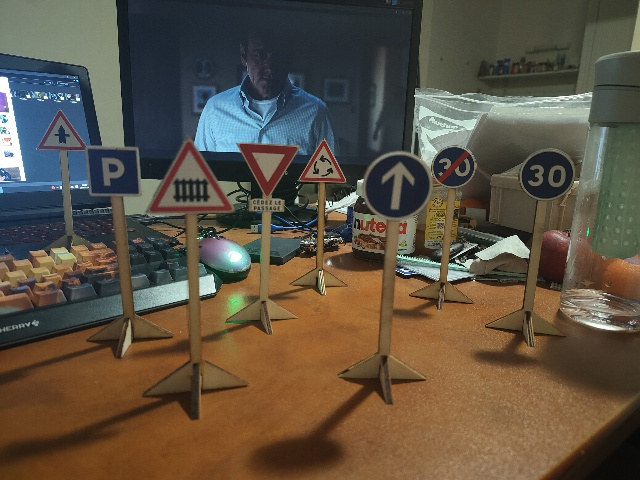P: (84, 146, 144, 200)
ban: (432, 144, 477, 186)
cycle: (300, 142, 346, 184)
first: (38, 110, 84, 151)
second: (238, 141, 295, 212)
straight: (364, 152, 433, 218)
thirty: (521, 149, 577, 203)
train: (151, 140, 229, 216)
